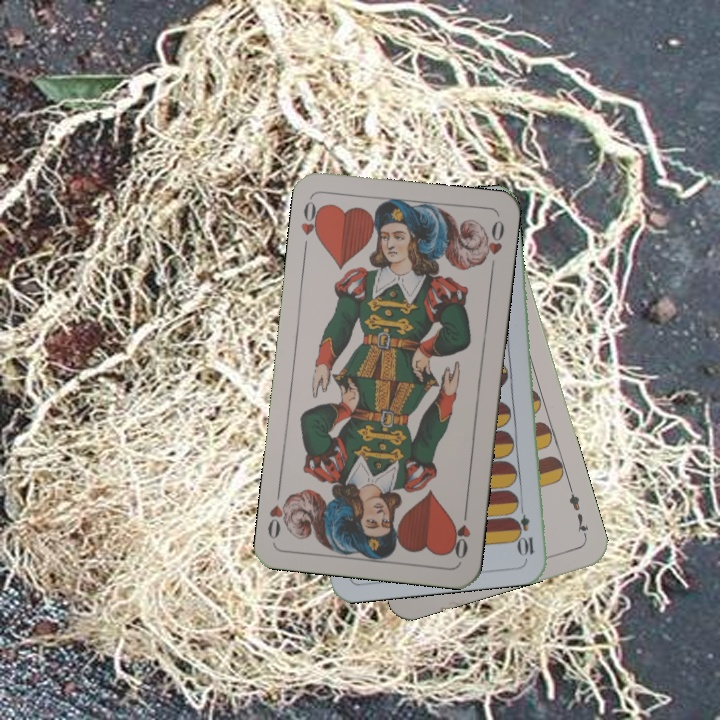E10: (514, 499, 537, 559)
E7: (565, 483, 591, 541)
HO: (297, 197, 325, 254), (447, 504, 473, 562)
